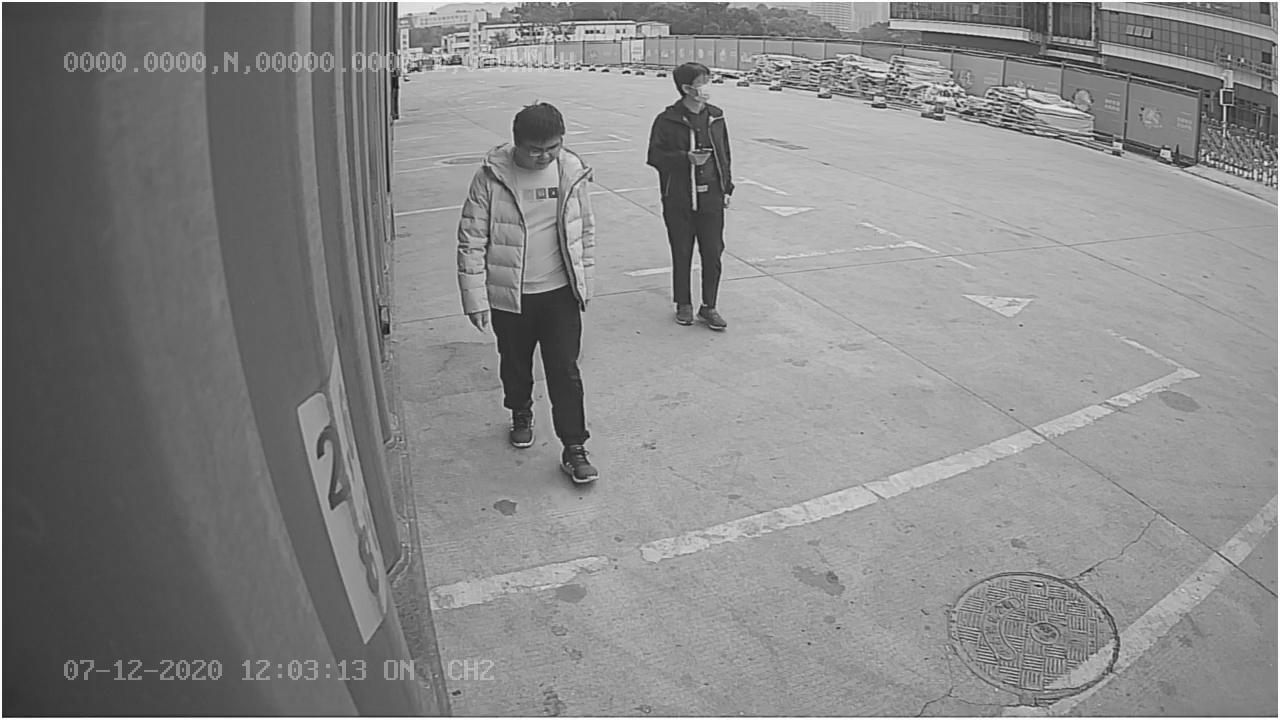person: (454, 99, 603, 484), (646, 60, 741, 332)
